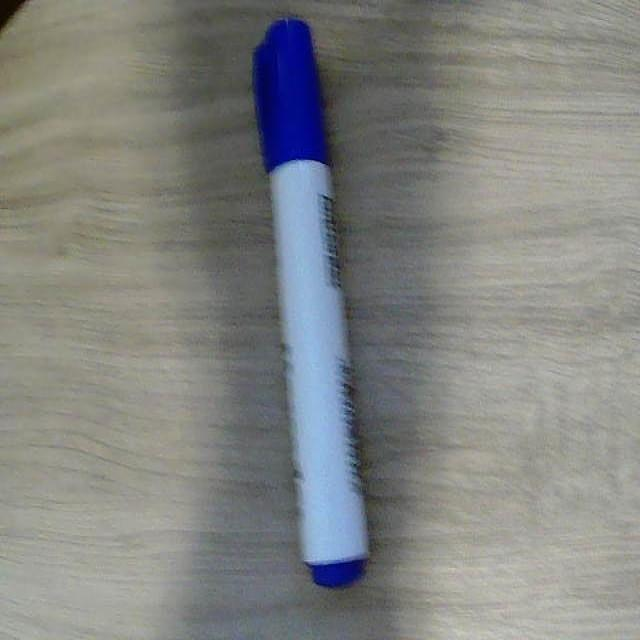caneta: (231, 8, 387, 606)
